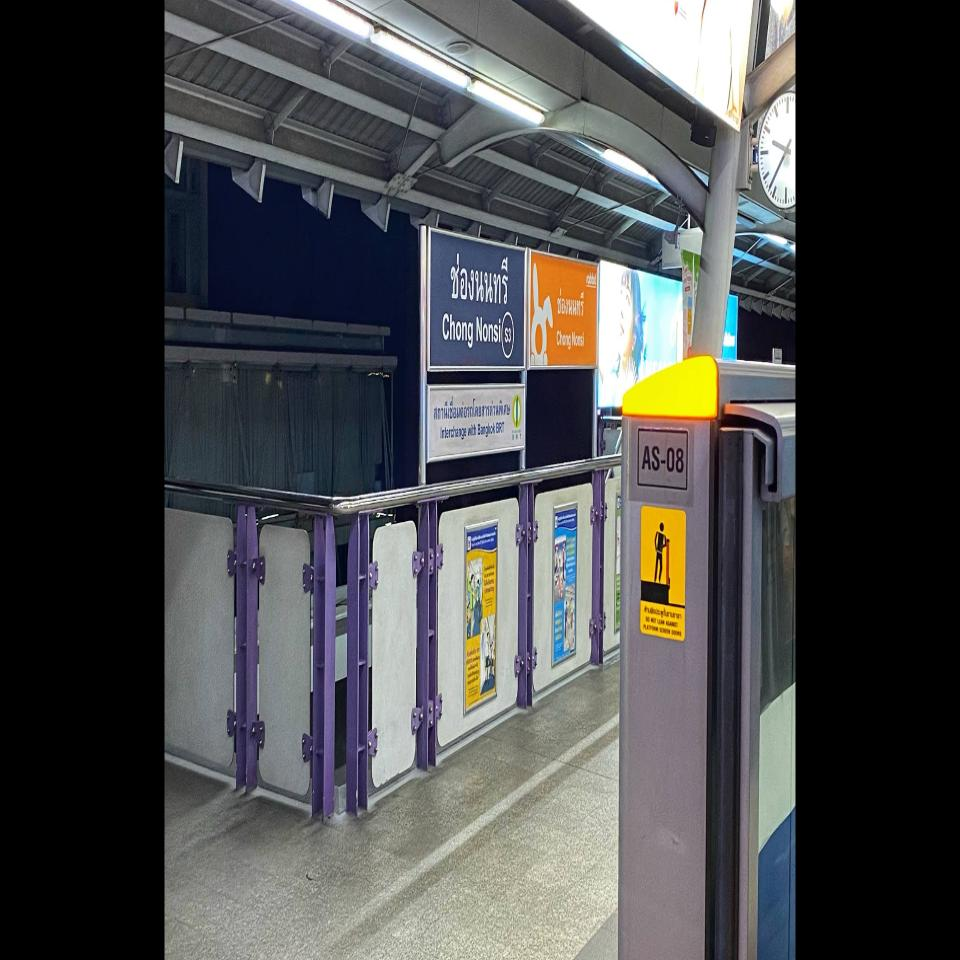signage: (426, 224, 526, 371), (526, 248, 601, 372)
